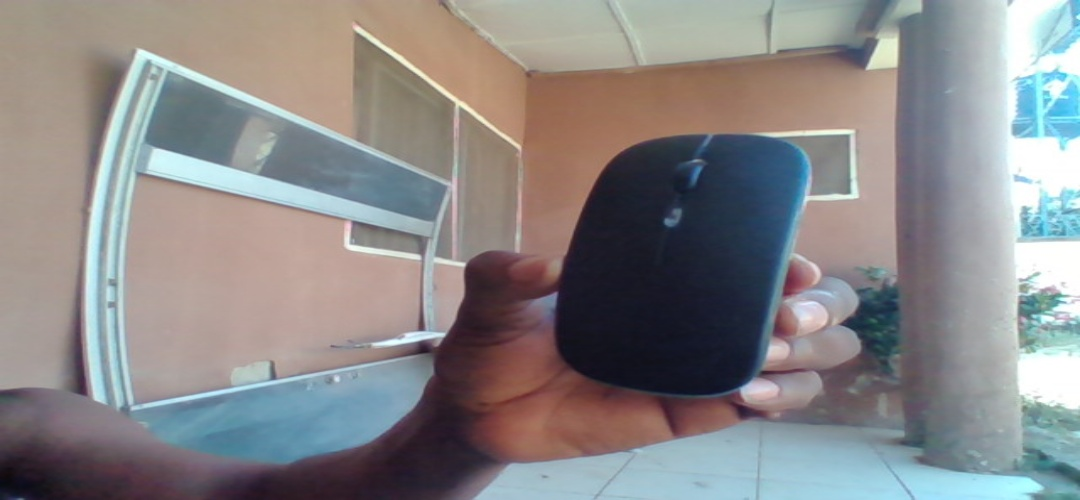wireless_mouse: (553, 124, 806, 398)
